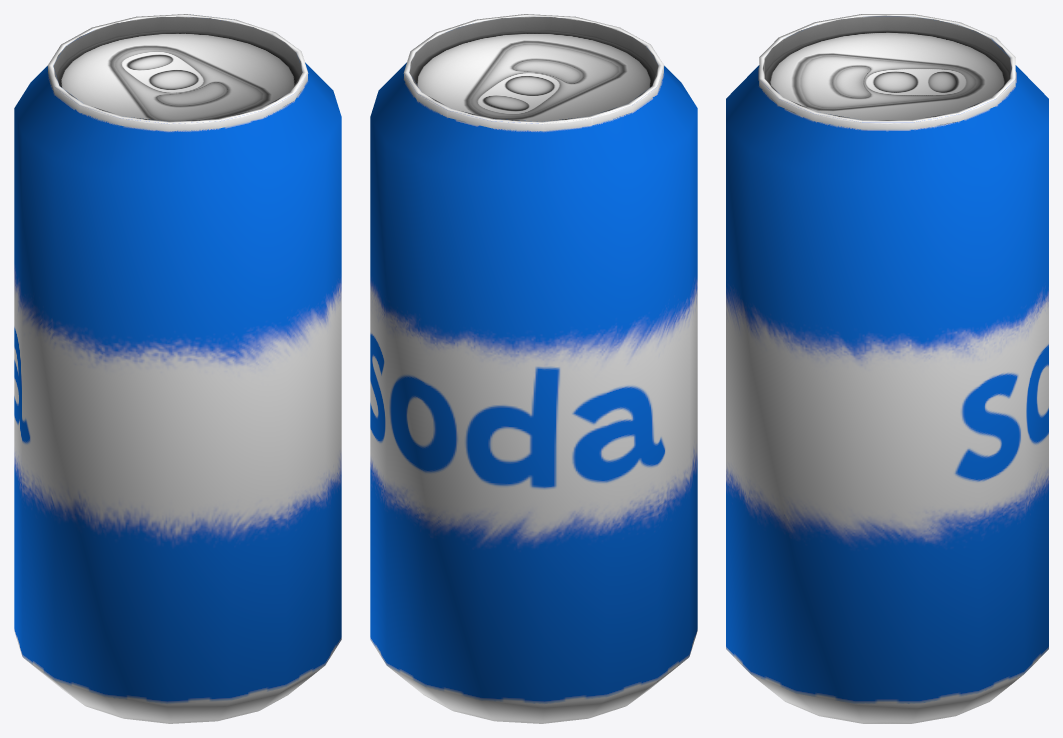
Rendered from sodablue_001.glb.
3 renders of one model, left to right at view 1: azimuth 30°, elevation 25°; view 2: azimuth 150°, elevation 25°; view 3: azimuth 270°, elevation 25°, orthographic.
Visible parts, largest first — view 1: sodablue.001; view 2: sodablue.001; view 3: sodablue.001.
Part boxes in pixels (x1,y1,x2,y2): sodablue.001: (14, 14, 341, 723); sodablue.001: (370, 14, 697, 723); sodablue.001: (726, 14, 1048, 723).
Bounding box in the file's own units: 0.2196 × 0.4538 × 0.2196.
Materials: 1 (1 with a texture image).
